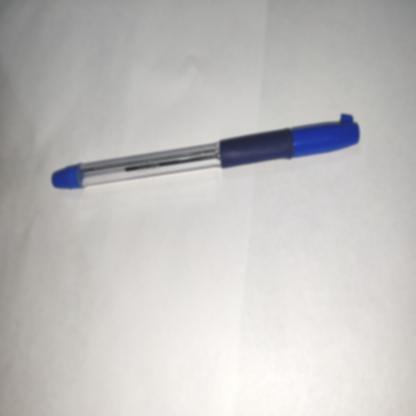pen: (17, 86, 371, 221)
